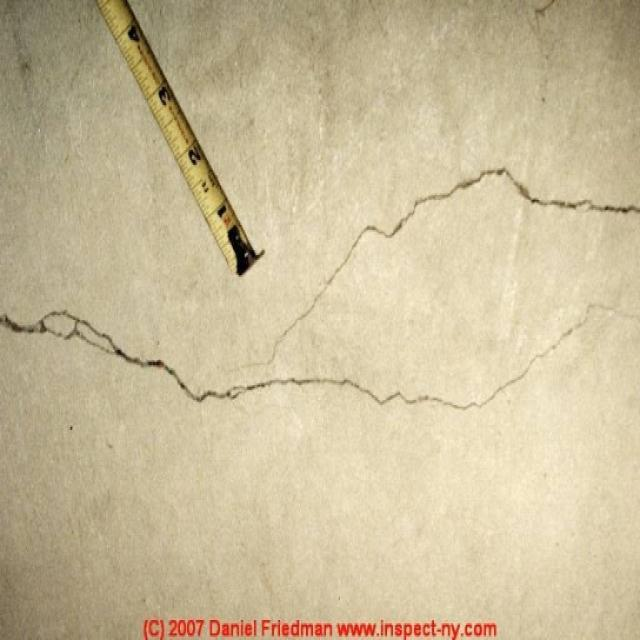Annular: (0, 286, 163, 384)
Diagonal: (268, 226, 374, 362)
Transverse: (374, 158, 640, 242), (167, 363, 513, 427)
